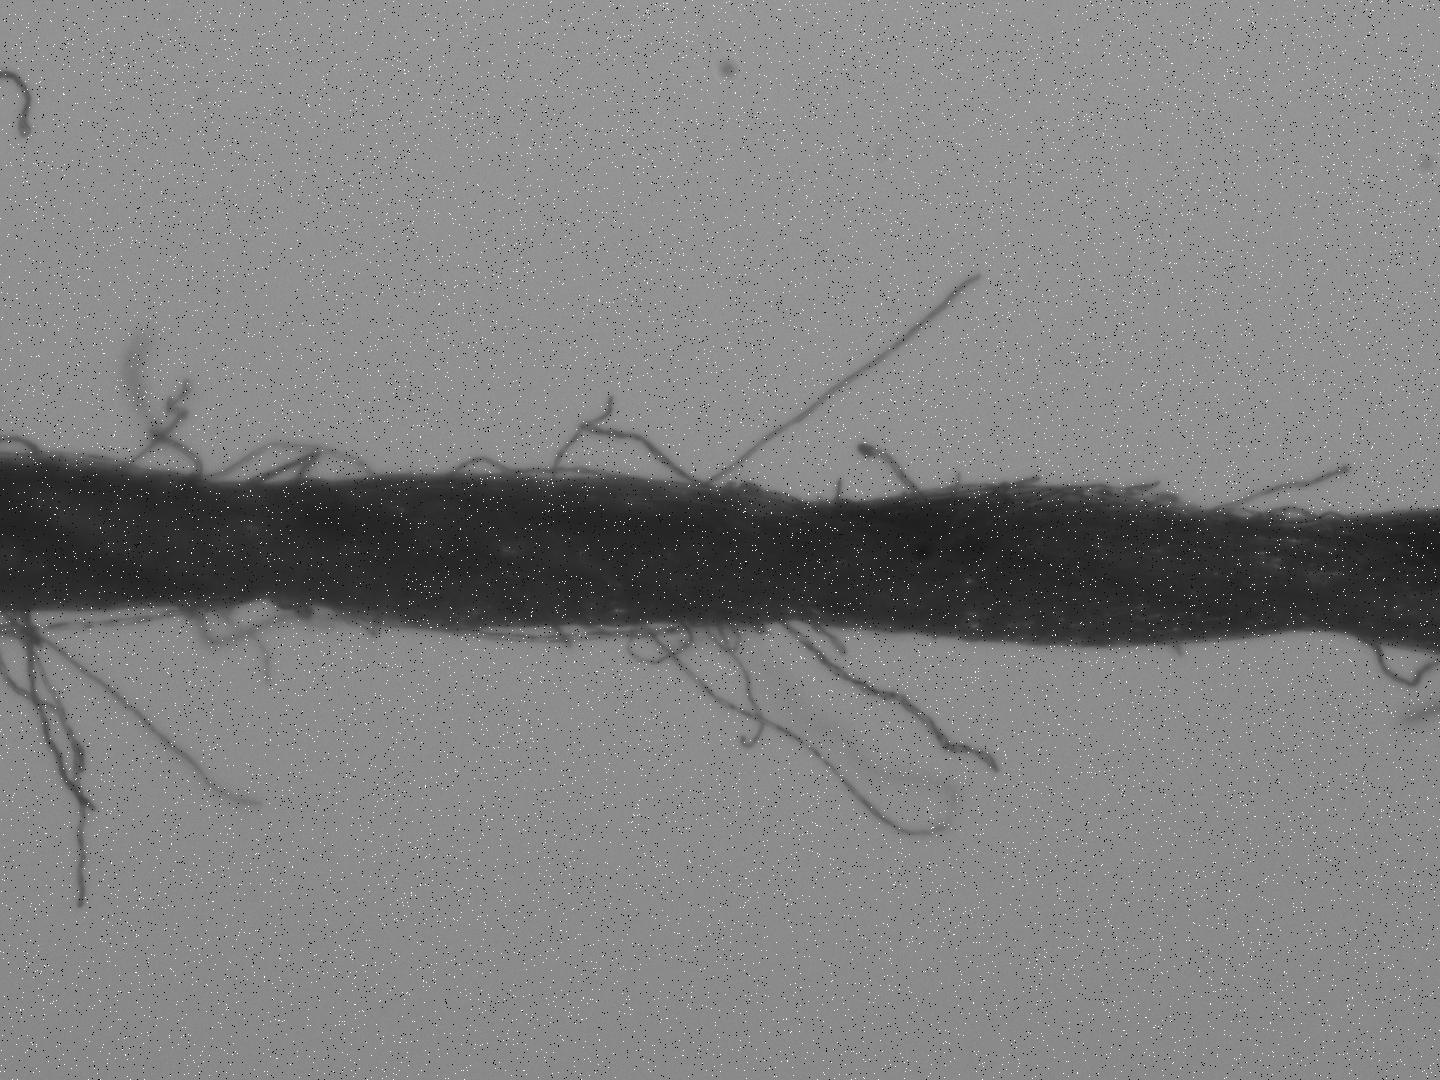loop_fiber: (457, 621, 715, 647), (245, 456, 317, 486), (442, 457, 511, 486), (509, 467, 612, 482), (1246, 506, 1323, 524)
protruding_fiber: (695, 273, 983, 487), (18, 613, 262, 809), (774, 619, 999, 773), (19, 604, 95, 811), (1206, 459, 1350, 513), (861, 444, 924, 493)
